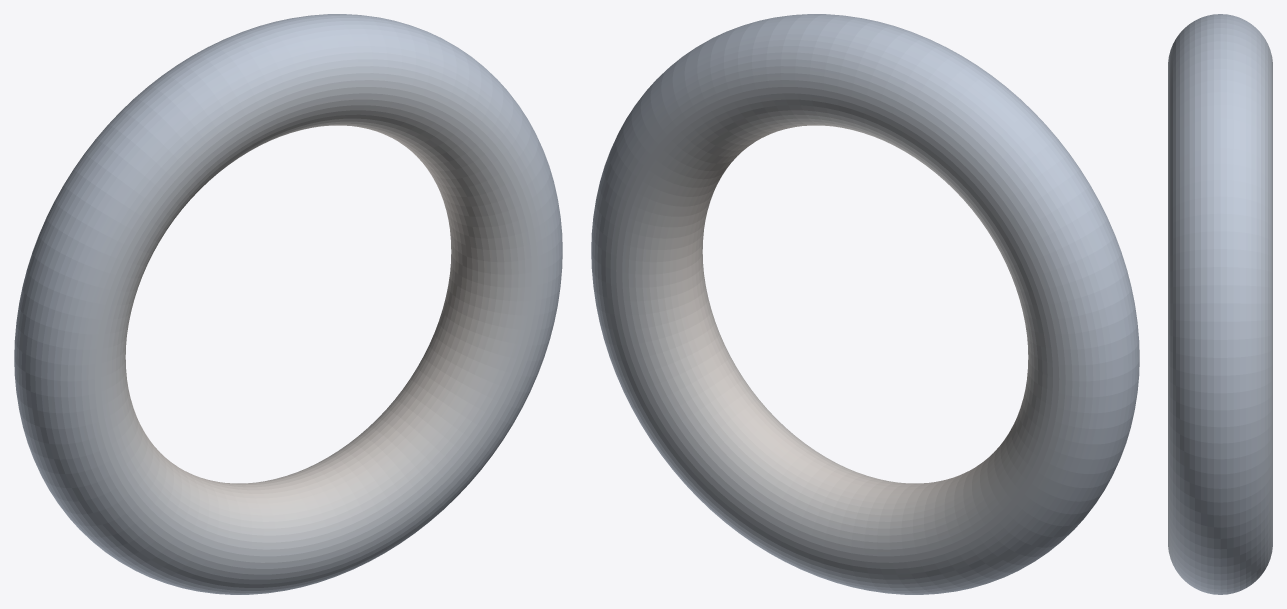
3 views of the same model, side by side, from view 1: azimuth 30°, elevation 25°; view 2: azimuth 150°, elevation 25°; view 3: azimuth 270°, elevation 25° (orthographic). The views are drawn at different scales.
Parts seen in each view (by area): view 1: world; view 2: world; view 3: world.
Boxes of the visible parts, x1,y1,x2,y2 form: world: (14,14,562,594); world: (591,14,1139,594); world: (1168,14,1272,594).
Size of the model in its own units: 25.78 by 25.78 by 4.66.
